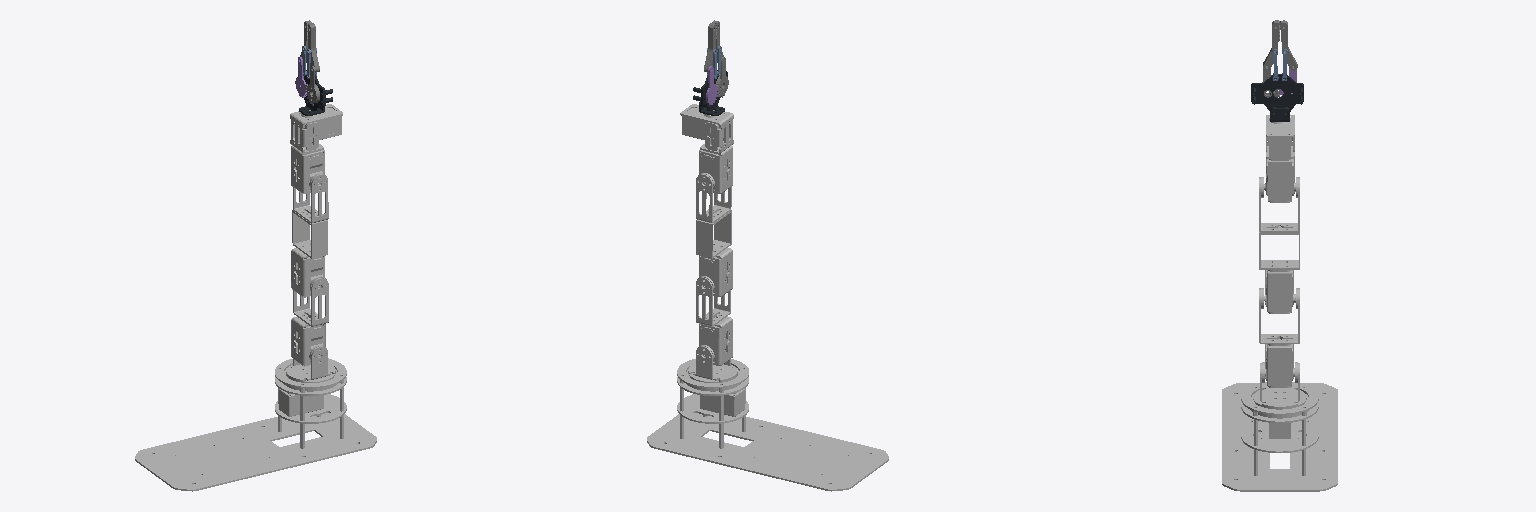
robot.urdf — dofbot:
<?xml version="1.0" encoding="utf-8"?>
<!-- This URDF was automatically created by SolidWorks to URDF Exporter! Originally created by Stephen Brawner (brawner@gmail.com) 
     Commit Version: 1.6.0-4-g7f85cfe  Build Version: 1.6.7995.38578
     For more information, please see http://wiki.ros.org/sw_urdf_exporter -->
<robot
  name="dofbot">
  <link
    name="base_link">
    <inertial>
      <origin
        xyz="0.0239187360478796 -3.57286167253252E-06 0.0211670949981378"
        rpy="0 0 0" />
      <mass
        value="0.092958030858417" />
      <inertia
        ixx="8.46656134554647E-05"
        ixy="-9.60566398377124E-10"
        ixz="-1.8609628025435E-07"
        iyy="0.000341595426050822"
        iyz="-8.8960223243723E-10"
        izz="0.000425234311347401" />
    </inertial>
    <visual>
      <origin
        xyz="0 0 0"
        rpy="0 0 0" />
      <geometry>
        <mesh
          filename="package://dofbot/meshes/base_link.STL" />
      </geometry>
      <material
        name="">
        <color
          rgba="0.752941176470588 0.752941176470588 0.752941176470588 1" />
      </material>
    </visual>
    <collision>
      <origin
        xyz="0 0 0"
        rpy="0 0 0" />
      <geometry>
        <mesh
          filename="package://dofbot/meshes/base_link.STL" />
      </geometry>
    </collision>
  </link>
  <link
    name="arm1_Link">
    <inertial>
      <origin
        xyz="-7.43526328791932E-06 9.46661311882556E-05 0.0134507813164057"
        rpy="0 0 0" />
      <mass
        value="0.0188575206024817" />
      <inertia
        ixx="4.11728499100027E-06"
        ixy="1.80448315998037E-12"
        ixz="-1.06920580366416E-09"
        iyy="3.57439741198647E-06"
        iyz="6.13388044344299E-12"
        izz="6.05161576281479E-06" />
    </inertial>
    <visual>
      <origin
        xyz="0 0 0"
        rpy="0 0 0" />
      <geometry>
        <mesh
          filename="package://dofbot/meshes/arm1_Link.STL" />
      </geometry>
      <material
        name="">
        <color
          rgba="0.752941176470588 0.752941176470588 0.752941176470588 1" />
      </material>
    </visual>
    <collision>
      <origin
        xyz="0 0 0"
        rpy="0 0 0" />
      <geometry>
        <mesh
          filename="package://dofbot/meshes/arm1_Link.STL" />
      </geometry>
    </collision>
  </link>
  <joint
    name="arm1_Joint1"
    type="revolute">
    <origin
      xyz="0.069961 -1.6275E-05 0.068089"
      rpy="0 0 0" />
    <parent
      link="base_link" />
    <child
      link="arm1_Link" />
    <axis
      xyz="0 0 1" />
    <limit
      lower="-1.57"
      upper="1.57"
      effort="10"
      velocity="1000" />
  </joint>
  <link
    name="arm2_Link">
    <inertial>
      <origin
        xyz="-0.00365103479312762 -0.0189411797238544 0.0324309388532535"
        rpy="0 0 0" />
      <mass
        value="0.0174591699364493" />
      <inertia
        ixx="6.8699584147489E-06"
        ixy="1.10105943907958E-09"
        ixz="1.95333874160451E-09"
        iyy="5.64400490119962E-06"
        iyz="-2.15957304397495E-09"
        izz="3.08536112016155E-06" />
    </inertial>
    <visual>
      <origin
        xyz="0 0 0"
        rpy="0 0 0" />
      <geometry>
        <mesh
          filename="package://dofbot/meshes/arm2_Link.STL" />
      </geometry>
      <material
        name="">
        <color
          rgba="0.752941176470588 0.752941176470588 0.752941176470588 1" />
      </material>
    </visual>
    <collision>
      <origin
        xyz="0 0 0"
        rpy="0 0 0" />
      <geometry>
        <mesh
          filename="package://dofbot/meshes/arm2_Link.STL" />
      </geometry>
    </collision>
  </link>
  <joint
    name="arm2_joint"
    type="revolute">
    <origin
      xyz="-2.1581E-05 0.01885 0.038929"
      rpy="0 0 0" />
    <parent
      link="arm1_Link" />
    <child
      link="arm2_Link" />
    <axis
      xyz="0 1 0" />
    <limit
      lower="-1.57"
      upper="1.57"
      effort="10"
      velocity="1000" />
  </joint>
  <link
    name="arm3_Link">
    <inertial>
      <origin
        xyz="-0.00221538819573511 0.0138711909916294 0.0533121647004448"
        rpy="0 0 0" />
      <mass
        value="0.0354565671305204" />
      <inertia
        ixx="1.66869680056466E-05"
        ixy="1.10754557023219E-09"
        ixz="2.30689146957008E-08"
        iyy="1.10999518077607E-05"
        iyz="-2.41471347168069E-09"
        izz="8.77619856969404E-06" />
    </inertial>
    <visual>
      <origin
        xyz="0 0 0"
        rpy="0 0 0" />
      <geometry>
        <mesh
          filename="package://dofbot/meshes/arm3_Link.STL" />
      </geometry>
      <material
        name="">
        <color
          rgba="0.752941176470588 0.752941176470588 0.752941176470588 1" />
      </material>
    </visual>
    <collision>
      <origin
        xyz="0 0 0"
        rpy="0 0 0" />
      <geometry>
        <mesh
          filename="package://dofbot/meshes/arm3_Link.STL" />
      </geometry>
    </collision>
  </link>
  <joint
    name="arm3_Joint"
    type="revolute">
    <origin
      xyz="-5.5192E-05 -0.032957 0.08421"
      rpy="0 0 0" />
    <parent
      link="arm2_Link" />
    <child
      link="arm3_Link" />
    <axis
      xyz="0 1 0" />
    <limit
      lower="-1.57"
      upper="1.57"
      effort="10"
      velocity="1000" />
  </joint>
  <link
    name="arm4_Link">
    <inertial>
      <origin
        xyz="-0.00174186781645215 0.0139066239416856 0.0358119448415425"
        rpy="0 0 0" />
      <mass
        value="0.0222705568678127" />
      <inertia
        ixx="6.10376537972283E-06"
        ixy="9.51665090136291E-10"
        ixz="-3.66924778539692E-07"
        iyy="7.13318864238188E-06"
        iyz="-1.06484654159689E-09"
        izz="4.52922346761454E-06" />
    </inertial>
    <visual>
      <origin
        xyz="0 0 0"
        rpy="0 0 0" />
      <geometry>
        <mesh
          filename="package://dofbot/meshes/arm4_Link.STL" />
      </geometry>
      <material
        name="">
        <color
          rgba="0.752941176470588 0.752941176470588 0.752941176470588 1" />
      </material>
    </visual>
    <collision>
      <origin
        xyz="0 0 0"
        rpy="0 0 0" />
      <geometry>
        <mesh
          filename="package://dofbot/meshes/arm4_Link.STL" />
      </geometry>
    </collision>
  </link>
  <joint
    name="arm4_Joint"
    type="revolute">
    <origin
      xyz="-0.00040197 0.00040438 0.12614"
      rpy="0 0 0" />
    <parent
      link="arm3_Link" />
    <child
      link="arm4_Link" />
    <axis
      xyz="0 1 0" />
    <limit
      lower="-1.57"
      upper="1.57"
      effort="10"
      velocity="1000" />
  </joint>
  <link
    name="arm5_Link">
    <inertial>
      <origin
        xyz="0.0191388422294388 0.0026281227850543 -0.028755621624735"
        rpy="0 0 0" />
      <mass
        value="0.0384945180443885" />
      <inertia
        ixx="6.96411602459758E-06"
        ixy="1.94226296149185E-08"
        ixz="2.30318973395024E-08"
        iyy="2.47354529932262E-06"
        iyz="8.48918280912568E-09"
        izz="6.16283968272157E-06" />
    </inertial>
    <visual>
      <origin
        xyz="0 0 0"
        rpy="0 0 0" />
      <geometry>
        <mesh
          filename="package://dofbot/meshes/arm5_Link.STL" />
      </geometry>
      <material
        name="">
        <color
          rgba="0.203921568627451 0.227450980392157 0.250980392156863 1" />
      </material>
    </visual>
    <collision>
      <origin
        xyz="0 0 0"
        rpy="0 0 0" />
      <geometry>
        <mesh
          filename="package://dofbot/meshes/arm5_Link.STL" />
      </geometry>
    </collision>
  </link>
  <joint
    name="arm5_Joint"
    type="revolute">
    <origin
      xyz="-6.0888E-05 0.0138 0.077195"
      rpy="3.1416 0 0" />
    <parent
      link="arm4_Link" />
    <child
      link="arm5_Link" />
    <axis
      xyz="0 0 1" />
    <limit
      lower="-1.57"
      upper="1.57"
      effort="10"
      velocity="1000" />
  </joint>
  <link
    name="Rlink1_Link">
    <inertial>
      <origin
        xyz="-0.000177419223490044 0.000151927636637583 0.00344170190191967"
        rpy="0 0 0" />
      <mass
        value="0.0021842344020427" />
      <inertia
        ixx="2.5485951165225E-07"
        ixy="-5.1200784849125E-12"
        ixz="1.05050093908998E-10"
        iyy="1.93651104369493E-07"
        iyz="9.6316393757424E-09"
        izz="6.4752363434487E-08" />
    </inertial>
    <visual>
      <origin
        xyz="0 0 0"
        rpy="0 0 0" />
      <geometry>
        <mesh
          filename="package://dofbot/meshes/Rlink1_Link.STL" />
      </geometry>
      <material
        name="">
        <color
          rgba="0.533333333333333 0.533333333333333 0.533333333333333 1" />
      </material>
    </visual>
    <collision>
      <origin
        xyz="0 0 0"
        rpy="0 0 0" />
      <geometry>
        <mesh
          filename="package://dofbot/meshes/Rlink1_Link.STL" />
      </geometry>
    </collision>
  </link>
  <joint
    name="Rlink1_Joint"
    type="revolute">
    <origin
      xyz="-0.0031415 0.01265 -0.029948"
      rpy="3.1416 0 0" />
    <parent
      link="arm5_Link" />
    <child
      link="Rlink1_Link" />
    <axis
      xyz="1 0 0" />
    <limit
      lower="0"
      upper="1.57"
      effort="10"
      velocity="1000" />
  </joint>
  <link
    name="Rlink2_Link">
    <inertial>
      <origin
        xyz="0.0049875789430473 0.00668866088195564 0.0224309348303247"
        rpy="0 0 0" />
      <mass
        value="0.00231126837053933" />
      <inertia
        ixx="5.93484390861034E-07"
        ixy="5.7191445114195E-11"
        ixz="3.04909465128879E-10"
        iyy="5.64866051582192E-07"
        iyz="-1.03294291287441E-07"
        izz="4.24862869617146E-08" />
    </inertial>
    <visual>
      <origin
        xyz="0 0 0"
        rpy="0 0 0" />
      <geometry>
        <mesh
          filename="package://dofbot/meshes/Rlink2_Link.STL" />
      </geometry>
      <material
        name="">
        <color
          rgba="0.533333333333333 0.533333333333333 0.533333333333333 1" />
      </material>
    </visual>
    <collision>
      <origin
        xyz="0 0 0"
        rpy="0 0 0" />
      <geometry>
        <mesh
          filename="package://dofbot/meshes/Rlink2_Link.STL" />
      </geometry>
    </collision>
  </link>
  <joint
    name="Rlink2_Joint"
    type="revolute">
    <origin
      xyz="-0.0025416 -0.0010043 0.029982"
      rpy="0 0 0" />
    <parent
      link="Rlink1_Link" />
    <child
      link="Rlink2_Link" />
    <axis
      xyz="1 0 0" />
    <limit
      lower="-1.57"
      upper="1.57"
      effort="10"
      velocity="1000" />
    <mimic
      joint="Rlink1_Joint"
      multiplier="-1"
      offset="0" />
  </joint>
  <link
    name="Llink1_Link">
    <inertial>
      <origin
        xyz="0.00123283443416577 4.11827362748109E-05 -0.00580564774331011"
        rpy="0 0 0" />
      <mass
        value="0.00131648779674886" />
      <inertia
        ixx="2.01886977595084E-07"
        ixy="-7.24908062648337E-12"
        ixz="-9.36829572481688E-11"
        iyy="1.70422073015449E-07"
        iyz="-1.29249587766615E-08"
        izz="3.24803350744115E-08" />
    </inertial>
    <visual>
      <origin
        xyz="0 0 0"
        rpy="0 0 0" />
      <geometry>
        <mesh
          filename="package://dofbot/meshes/Llink1_Link.STL" />
      </geometry>
      <material
        name="">
        <color
          rgba="0.623529411764706 0.52156862745098 0.749019607843137 1" />
      </material>
    </visual>
    <collision>
      <origin
        xyz="0 0 0"
        rpy="0 0 0" />
      <geometry>
        <mesh
          filename="package://dofbot/meshes/Llink1_Link.STL" />
      </geometry>
    </collision>
  </link>
  <joint
    name="Llink1_Joint"
    type="revolute">
    <origin
      xyz="-0.0056665 -0.01223 -0.029697"
      rpy="0 0 0" />
    <parent
      link="arm5_Link" />
    <child
      link="Llink1_Link" />
    <axis
      xyz="1 0 0" />
    <limit
      lower="-1.57"
      upper="1.57"
      effort="10"
      velocity="1000" />
    <mimic
      joint="Rlink1_Joint"
      multiplier="-1"
      offset="0" />
  </joint>
  <link
    name="Llink2_Link">
    <inertial>
      <origin
        xyz="-0.00498766300071467 0.00691930205778919 0.0223608461909852"
        rpy="0 0 0" />
      <mass
        value="0.00231126837053932" />
      <inertia
        ixx="5.93484392308372E-07"
        ixy="-5.99556306092019E-11"
        ixz="-3.02996803908238E-10"
        iyy="5.62682696980491E-07"
        iyz="-1.08653043596381E-07"
        izz="4.4669640116073E-08" />
    </inertial>
    <visual>
      <origin
        xyz="0 0 0"
        rpy="0 0 0" />
      <geometry>
        <mesh
          filename="package://dofbot/meshes/Llink2_Link.STL" />
      </geometry>
      <material
        name="">
        <color
          rgba="0.533333333333333 0.533333333333333 0.533333333333333 1" />
      </material>
    </visual>
    <collision>
      <origin
        xyz="0 0 0"
        rpy="0 0 0" />
      <geometry>
        <mesh
          filename="package://dofbot/meshes/Llink2_Link.STL" />
      </geometry>
    </collision>
  </link>
  <joint
    name="Llink2_Joint"
    type="revolute">
    <origin
      xyz="-1.6765E-05 -0.0018113 -0.03032"
      rpy="3.1416 0 3.1416" />
    <parent
      link="Llink1_Link" />
    <child
      link="Llink2_Link" />
    <axis
      xyz="1 0 0" />
    <limit
      lower="-1.57"
      upper="1.57"
      effort="10"
      velocity="1000" />
    <mimic
      joint="Rlink1_Joint"
      multiplier="-1"
      offset="0" />
  </joint>
  <link
    name="Rlink3_Link">
    <inertial>
      <origin
        xyz="0.00489895779500876 -0.000216751686725427 0.0140189928378843"
        rpy="0 0 0" />
      <mass
        value="0.000604619671171983" />
      <inertia
        ixx="6.02457512544635E-08"
        ixy="-4.93197218606943E-13"
        ixz="3.25622855198614E-11"
        iyy="5.93569558721656E-08"
        iyz="8.97612174092086E-10"
        izz="1.33098393077239E-09" />
    </inertial>
    <visual>
      <origin
        xyz="0 0 0"
        rpy="0 0 0" />
      <geometry>
        <mesh
          filename="package://dofbot/meshes/Rlink3_Link.STL" />
      </geometry>
      <material
        name="">
        <color
          rgba="0.466666666666667 0.549019607843137 0.662745098039216 1" />
      </material>
    </visual>
    <collision>
      <origin
        xyz="0 0 0"
        rpy="0 0 0" />
      <geometry>
        <mesh
          filename="package://dofbot/meshes/Rlink3_Link.STL" />
      </geometry>
    </collision>
  </link>
  <joint
    name="Rlink3_Joint"
    type="revolute">
    <origin
      xyz="-0.0056765 0.0044999 -0.047947"
      rpy="3.1416 0 0" />
    <parent
      link="arm5_Link" />
    <child
      link="Rlink3_Link" />
    <axis
      xyz="1 0 0" />
    <limit
      lower="-1.57"
      upper="1.57"
      effort="10"
      velocity="1000" />
    <mimic
      joint="Rlink1_Joint"
      multiplier="1"
      offset="0" />
  </joint>
  <link
    name="Llink3_Link">
    <inertial>
      <origin
        xyz="0.004898957018708 -0.000311074993197471 -0.0140172173215368"
        rpy="0 0 0" />
      <mass
        value="0.000604619671171983" />
      <inertia
        ixx="6.02457512509097E-08"
        ixy="-7.14896077230261E-13"
        ixz="-3.25614361131708E-11"
        iyy="5.93422523775309E-08"
        iyz="-1.28789595317735E-09"
        izz="1.34568742896039E-09" />
    </inertial>
    <visual>
      <origin
        xyz="0 0 0"
        rpy="0 0 0" />
      <geometry>
        <mesh
          filename="package://dofbot/meshes/Llink3_Link.STL" />
      </geometry>
      <material
        name="">
        <color
          rgba="0.466666666666667 0.549019607843137 0.662745098039216 1" />
      </material>
    </visual>
    <collision>
      <origin
        xyz="0 0 0"
        rpy="0 0 0" />
      <geometry>
        <mesh
          filename="package://dofbot/meshes/Llink3_Link.STL" />
      </geometry>
    </collision>
  </link>
  <joint
    name="Llink3_Joint"
    type="revolute">
    <origin
      xyz="-0.0056765 -0.0045001 -0.047947"
      rpy="0 0 0" />
    <parent
      link="arm5_Link" />
    <child
      link="Llink3_Link" />
    <axis
      xyz="1 0 0" />
    <limit
      lower="-1.57"
      upper="1.57"
      effort="10"
      velocity="1000" />
    <mimic
      joint="Rlink1_Joint"
      multiplier="-1"
      offset="0" />
  </joint>
  <link
    name="Gripping_point_Link">
    <inertial>
      <origin
        xyz="6.93889390390723E-18 0.00170811257593551 0"
        rpy="0 0 0" />
      <mass
        value="0.00108842918376294" />
      <inertia
        ixx="3.41300668691933E-08"
        ixy="1.30410193447813E-23"
        ixz="-1.4716195848163E-23"
        iyy="6.54468304980741E-08"
        iyz="-5.52450020434586E-24"
        izz="3.41300668691932E-08" />
    </inertial>
    <visual>
      <origin
        xyz="0 0 0"
        rpy="0 0 0" />
      <geometry>
        <mesh
          filename="package://dofbot/meshes/Gripping_point_Link.STL" />
      </geometry>
      <material
        name="">
        <color
          rgba="0.956862745098039 0.956862745098039 0.96078431372549 1" />
      </material>
    </visual>
    <collision>
      <origin
        xyz="0 0 0"
        rpy="0 0 0" />
      <geometry>
        <mesh
          filename="package://dofbot/meshes/Gripping_point_Link.STL" />
      </geometry>
    </collision>
  </link>
  <joint
    name="Gripping_Joint"
    type="revolute">
    <origin
      xyz="0 0 -0.00215"
      rpy="1.5712 -0.0003891 2.3562" />
    <parent
      link="arm5_Link" />
    <child
      link="Gripping_point_Link" />
    <axis
      xyz="0 0 1" />
    <limit
      lower="-1.57"
      upper="1.57"
      effort="10"
      velocity="1000" />
  </joint>
</robot>

--- Facts derived from the render (not from the file) ---
The picture shows the robot from 3 angles, left to right: view 1: azimuth 30°, elevation 25°; view 2: azimuth 150°, elevation 25°; view 3: azimuth 270°, elevation 25°; orthographic projection.
Robot: dofbot — 13 links, 12 joints (12 revolute); root link base_link; default pose: every joint at zero.
Links seen in each view (by area): view 1: base_link, arm3_Link, arm4_Link, arm2_Link, arm1_Link, arm5_Link; view 2: base_link, arm3_Link, arm4_Link, arm2_Link, arm1_Link; view 3: base_link, arm3_Link, arm4_Link, arm2_Link, arm5_Link, arm1_Link.
Boxes of the visible links, x1,y1,x2,y2 form: base_link: [135, 358, 376, 491]; arm3_Link: [291, 173, 328, 297]; arm4_Link: [290, 104, 342, 193]; arm2_Link: [291, 276, 328, 366]; arm1_Link: [286, 345, 335, 382]; arm5_Link: [299, 70, 332, 115]; base_link: [647, 359, 888, 491]; arm3_Link: [696, 173, 732, 296]; arm4_Link: [680, 104, 733, 193]; arm2_Link: [696, 276, 732, 365]; arm1_Link: [688, 345, 737, 382]; base_link: [1222, 382, 1337, 491]; arm3_Link: [1259, 177, 1299, 313]; arm4_Link: [1264, 115, 1294, 202]; arm2_Link: [1259, 288, 1299, 387]; arm5_Link: [1251, 74, 1303, 121]; arm1_Link: [1253, 362, 1306, 409].
Size in the robot's own frame: 0.26 by 0.12 by 0.5051 metres.
Meshes: 13 distinct files referenced, 13 mesh visuals loaded (13 binary STL).
